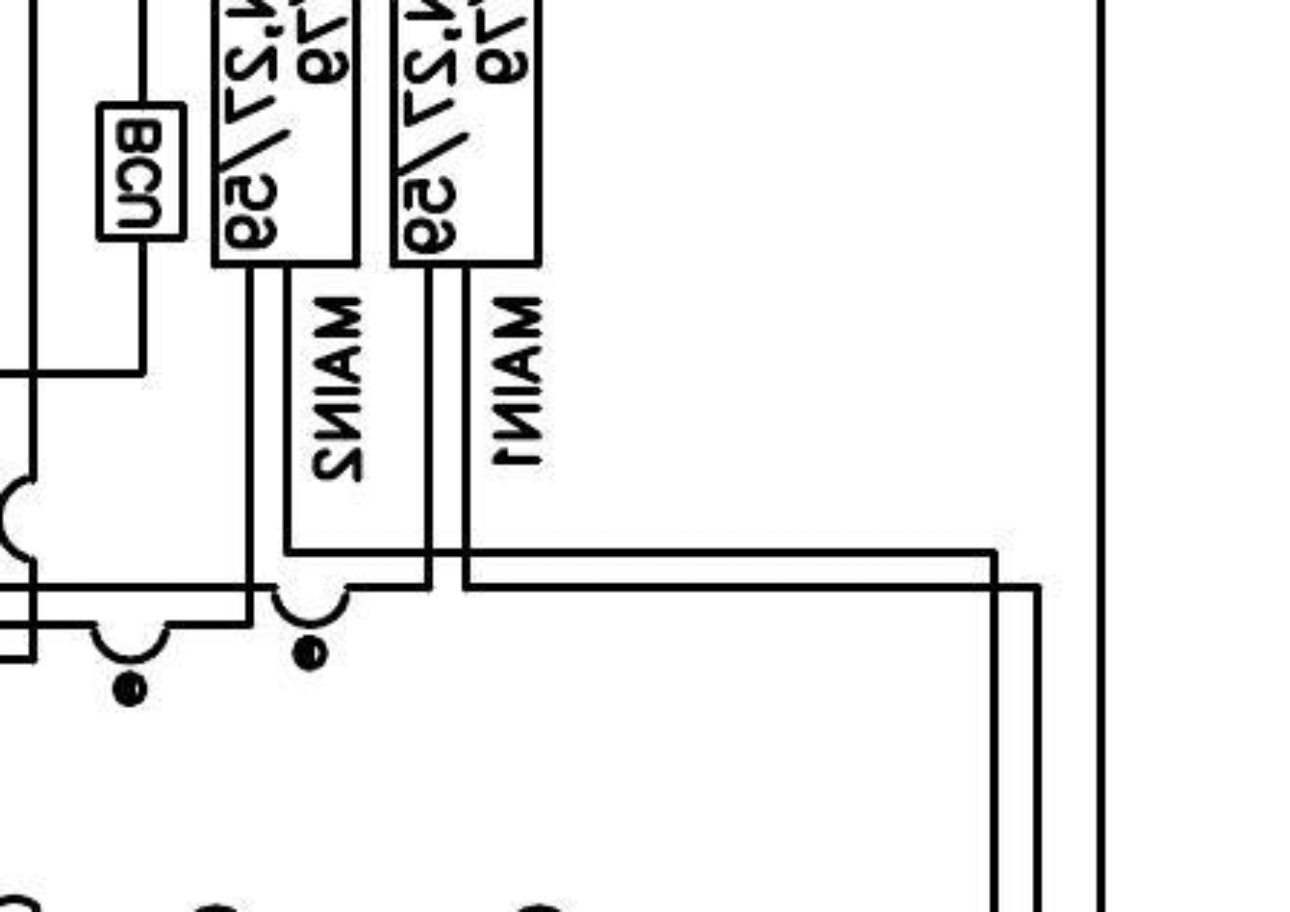BCU: (94, 99, 189, 244)
